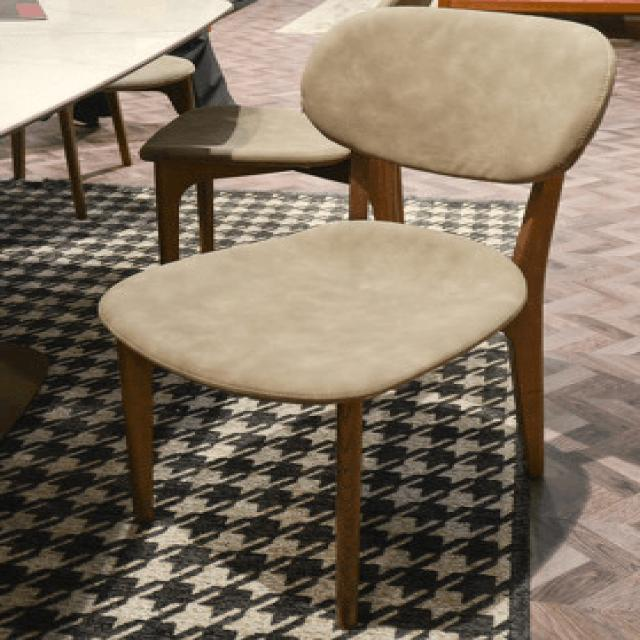chair: (92, 4, 622, 635), (85, 8, 618, 404)
